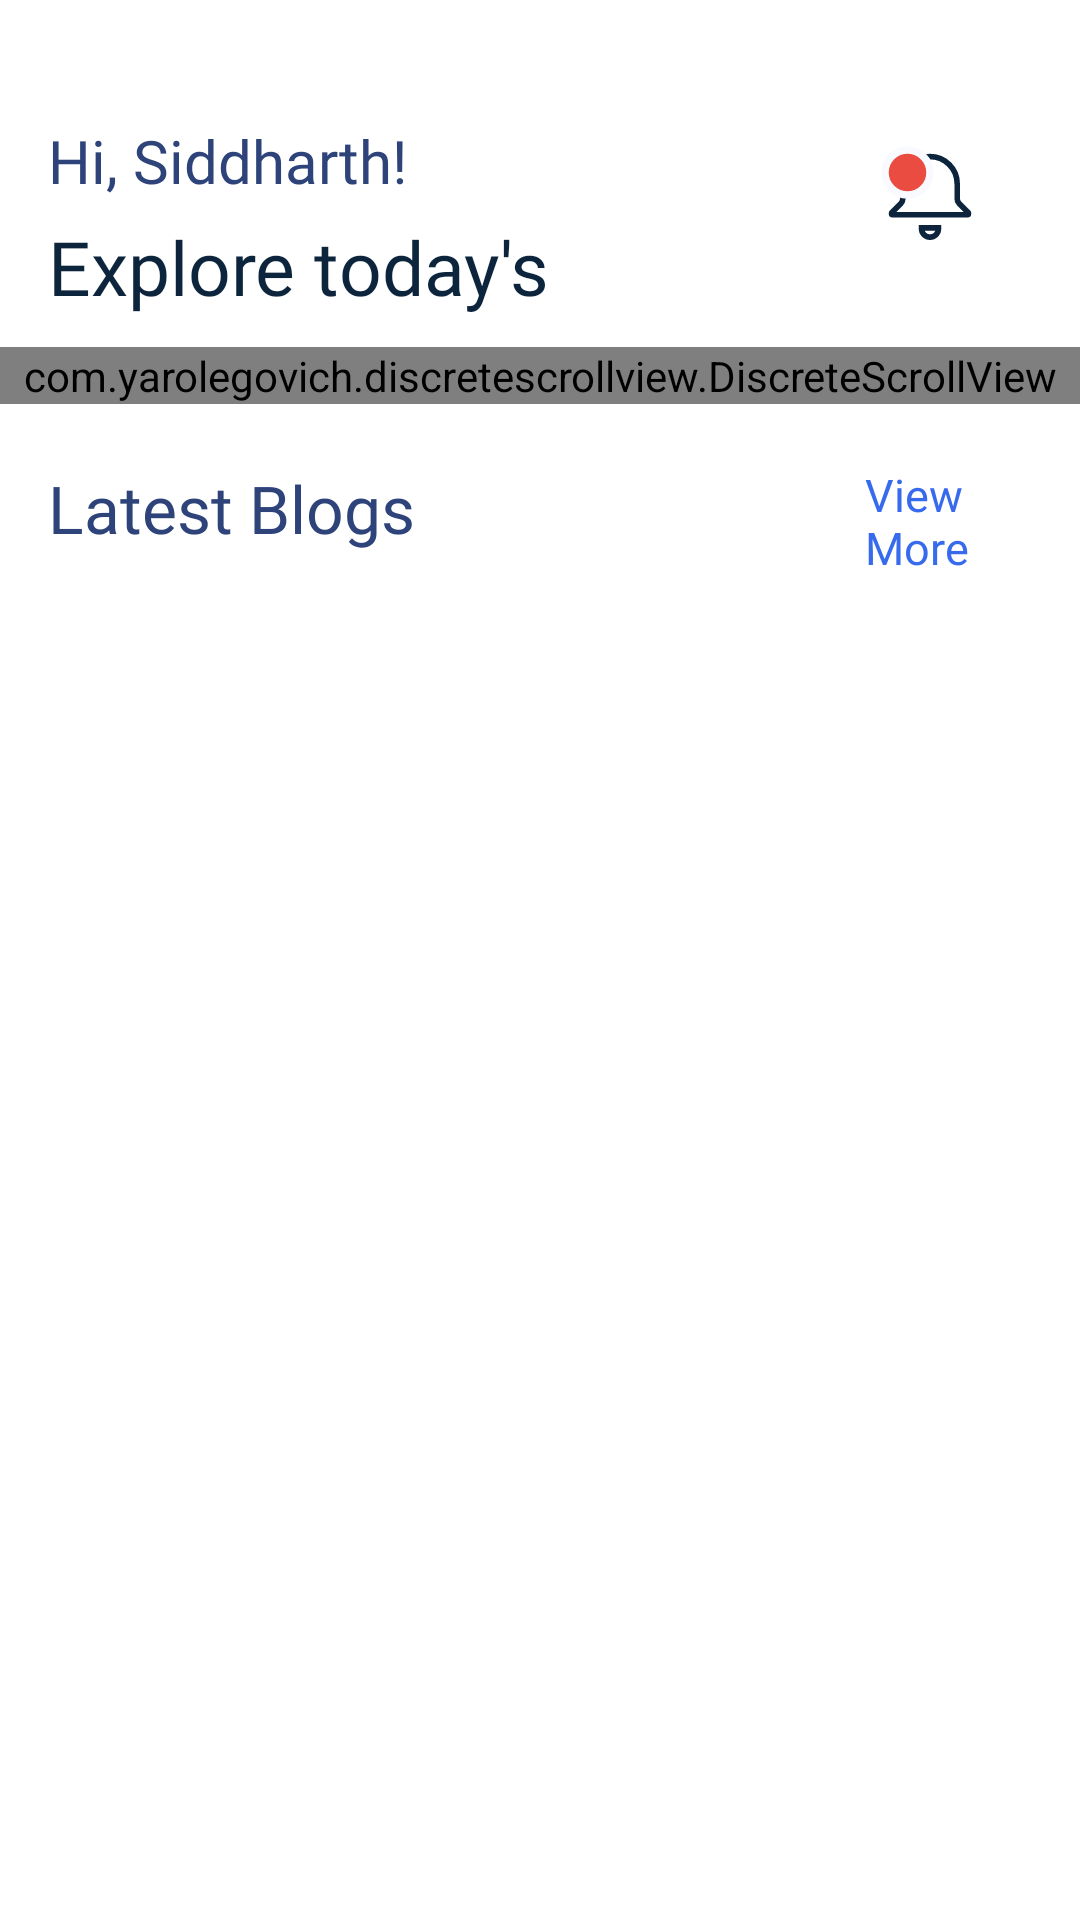

Named icons in this screenshot (1080x1920) and their bounding boxes, bbox=[x1, y1, x2, y2]:
notification: bbox=[888, 153, 972, 240]
